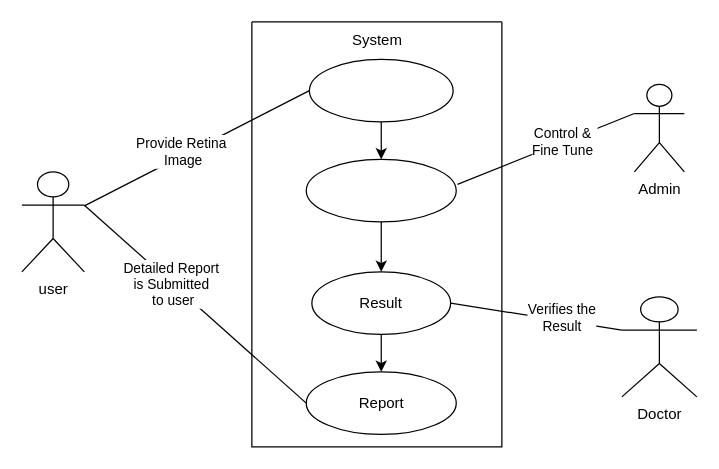
This 719x469 diagram has some shape labels left out. Here are the shapes that lost their labels. From the top down, the centre of each, then its label:
point 380,90: Retina Image
point 380,190: Model
